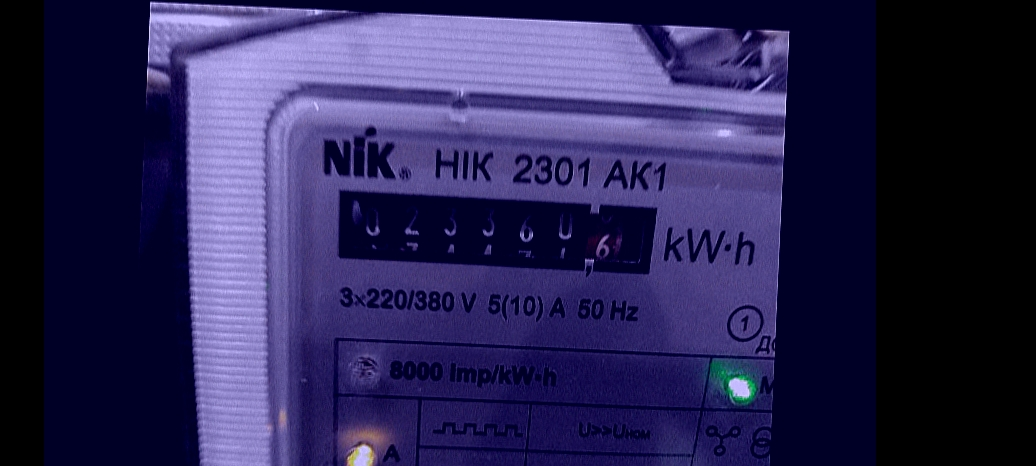0: (362, 202, 385, 238), (555, 206, 578, 242)
2: (402, 201, 424, 237)
3: (441, 203, 462, 239), (480, 204, 499, 239)
6: (516, 209, 538, 244), (594, 227, 613, 261)
screen: (323, 177, 678, 292)
